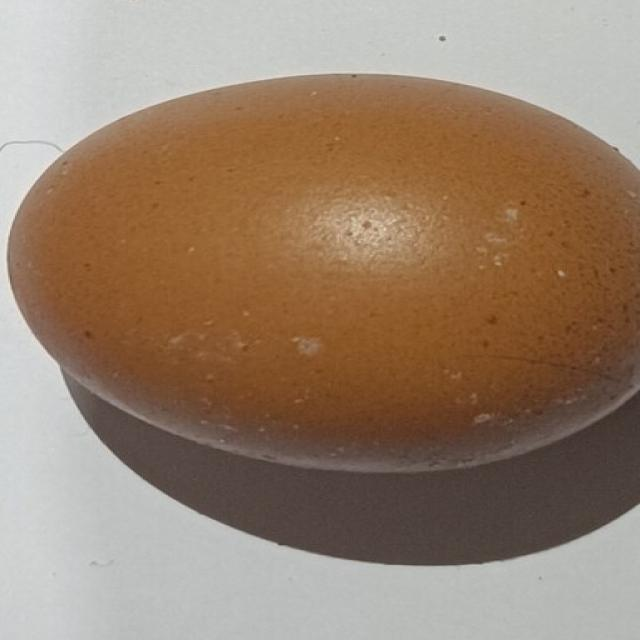unfresh: (10, 75, 640, 474)
